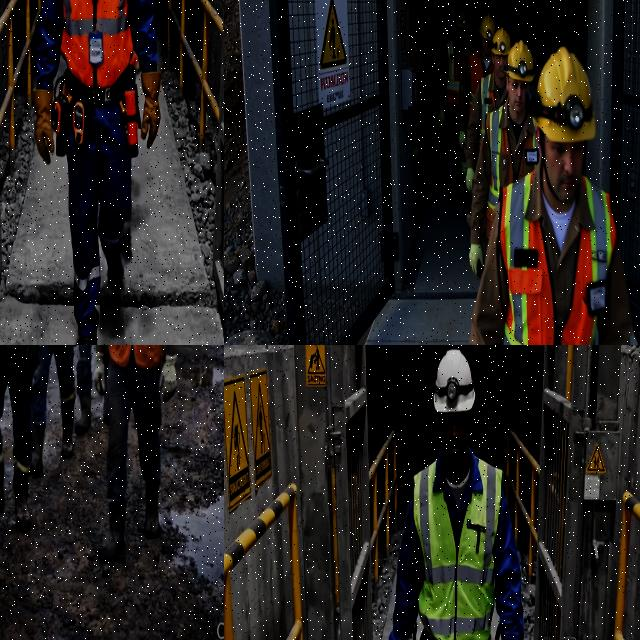Vest: (500, 175, 615, 344), (413, 459, 502, 639), (486, 104, 536, 238), (96, 0, 132, 88), (468, 47, 492, 116), (446, 39, 468, 104), (108, 345, 163, 370), (479, 73, 496, 150), (410, 39, 422, 92)
Worker: (470, 48, 631, 344), (33, 0, 160, 344), (389, 350, 524, 639), (94, 345, 176, 563), (468, 41, 537, 273), (0, 345, 42, 531), (465, 28, 511, 192), (31, 345, 77, 476), (439, 8, 469, 200), (458, 15, 495, 150), (410, 8, 432, 189), (75, 345, 92, 435)
helmet: (527, 47, 595, 142), (434, 350, 474, 413), (504, 40, 534, 82), (491, 28, 511, 56), (480, 15, 495, 40), (453, 8, 467, 29), (409, 7, 419, 25)
